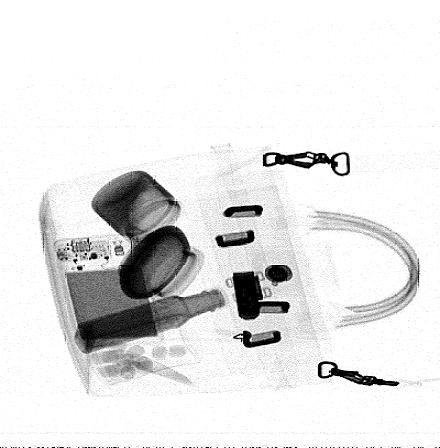Powerbank: (53, 232, 165, 348)
